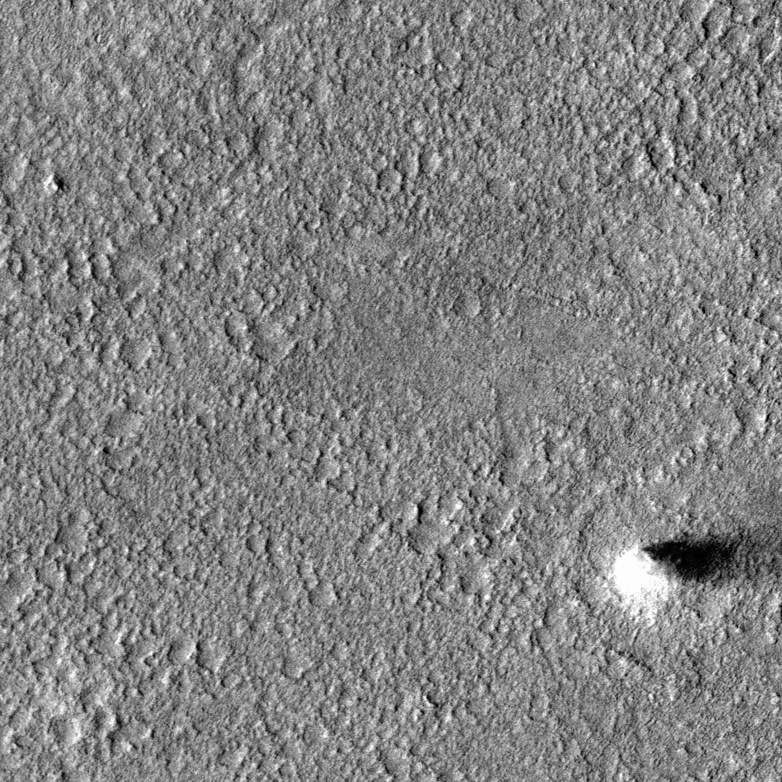dust_devil: (609, 522, 782, 618)
